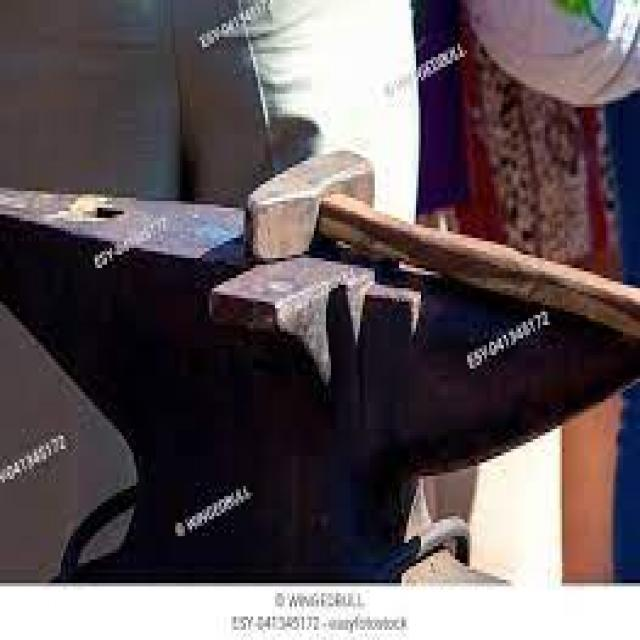hammer: (241, 144, 640, 369)
